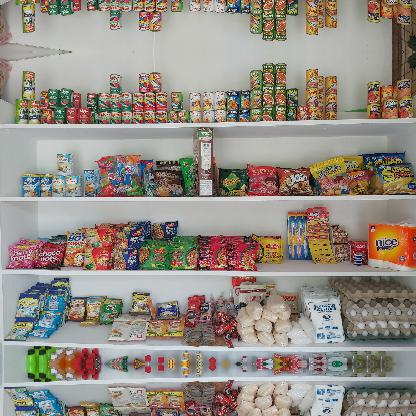Koko-Krunch: (193, 128, 213, 196)
